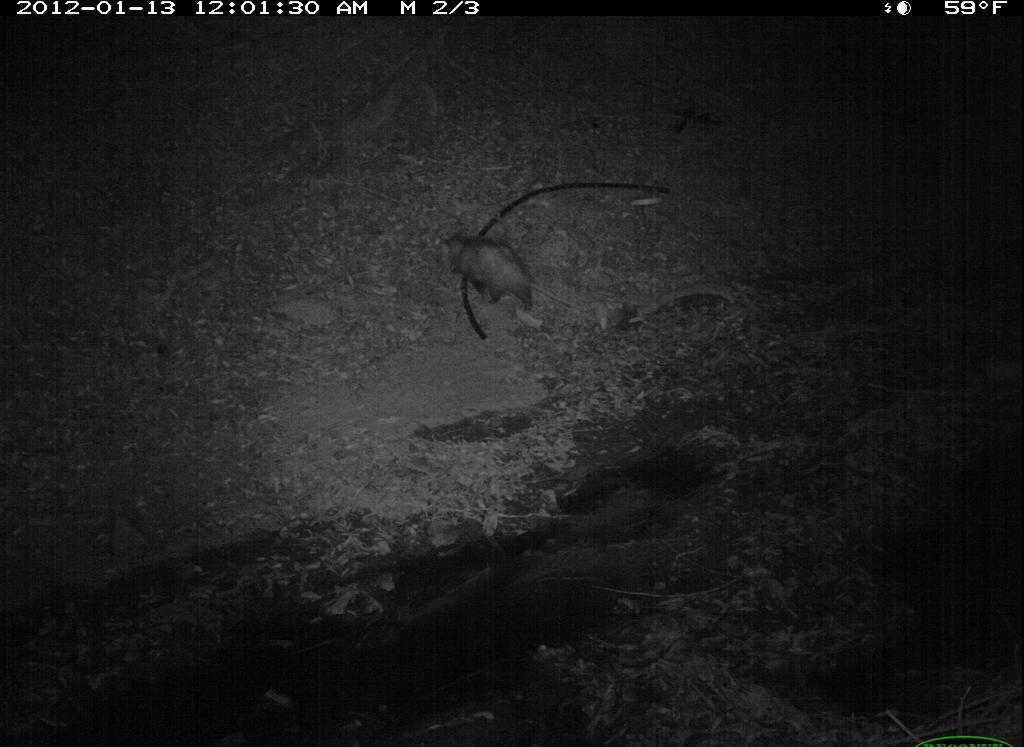opossum: (434, 221, 560, 333)
